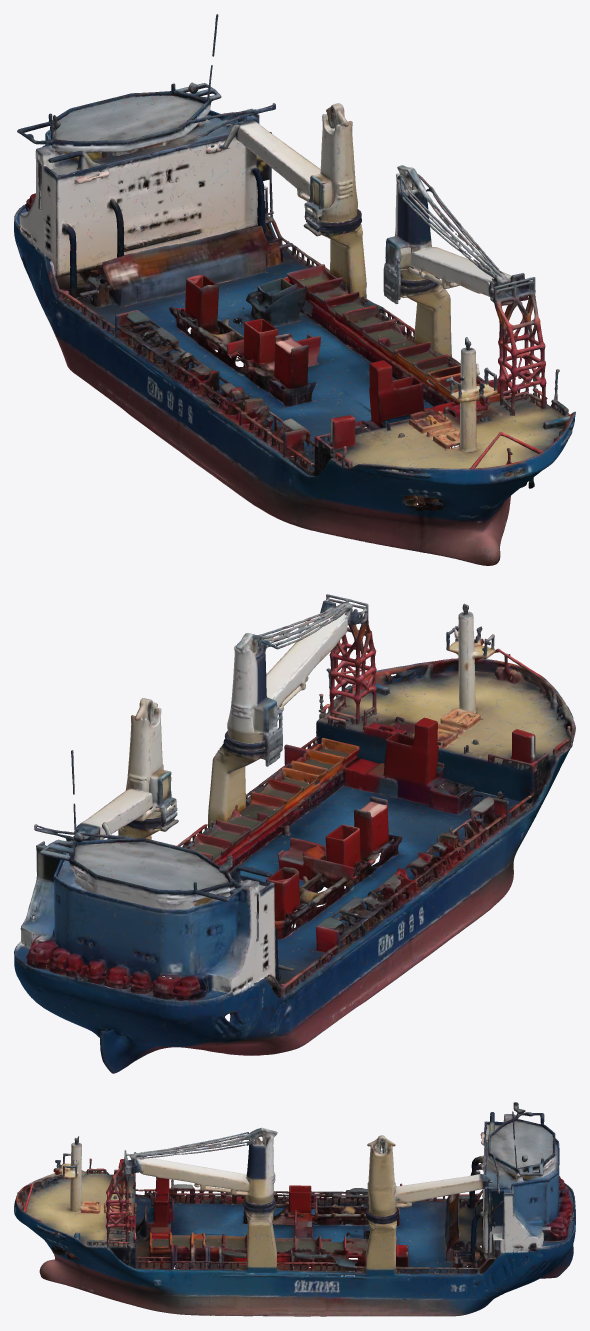
File: baseline_2026-05-06T145255.519.glb
The picture shows the model from 3 angles, top to bottom: view 1: azimuth 30°, elevation 25°; view 2: azimuth 150°, elevation 25°; view 3: azimuth 270°, elevation 25°; orthographic projection. The views are drawn at different scales.
Parts seen in each view (by area): view 1: world; view 2: world; view 3: world.
Boxes of the visible parts, x1,y1,x2,y2 form: world: (14, 14, 575, 565); world: (14, 594, 575, 1073); world: (14, 1102, 575, 1316).
Size of the model in its own units: 0.3329 by 0.3755 by 1.
1 material, 1 textured.
